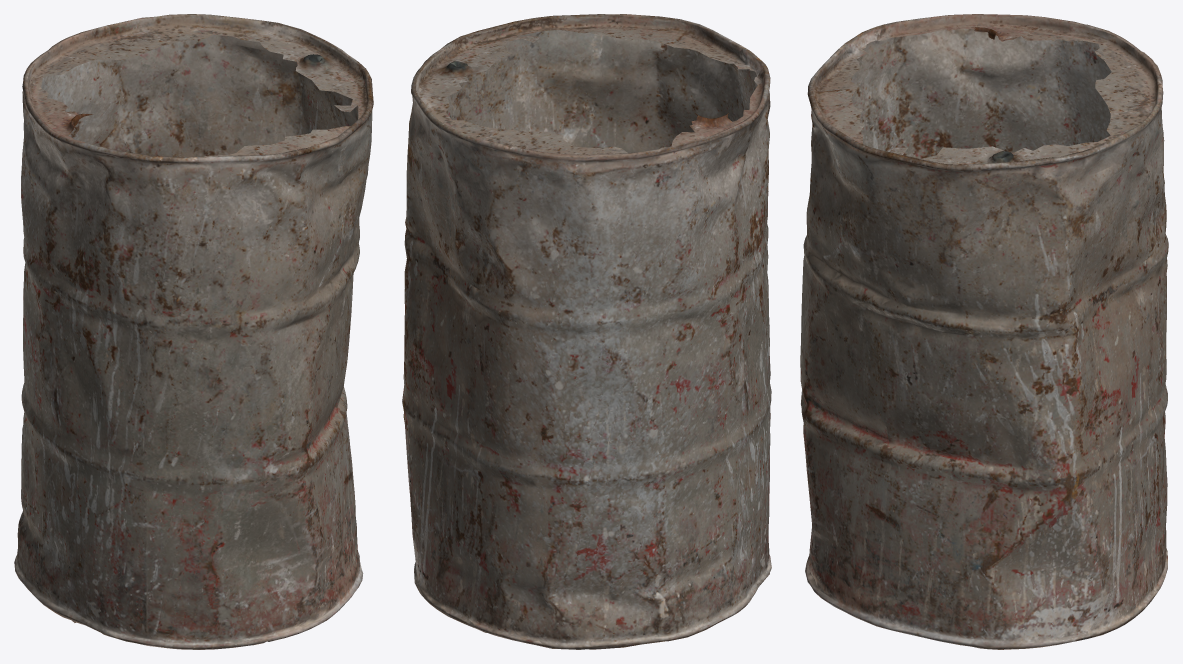
The model's file is bak.glb.
3 renders of one model, left to right at view 1: azimuth 30°, elevation 25°; view 2: azimuth 150°, elevation 25°; view 3: azimuth 270°, elevation 25°, orthographic.
Parts seen in each view (by area): view 1: Aset_other_various_M_ui1maewga_LOD0__0; view 2: Aset_other_various_M_ui1maewga_LOD0__0; view 3: Aset_other_various_M_ui1maewga_LOD0__0.
Boxes of the visible parts, x1,y1,x2,y2 form: Aset_other_various_M_ui1maewga_LOD0__0: (14,14,373,649); Aset_other_various_M_ui1maewga_LOD0__0: (402,14,771,649); Aset_other_various_M_ui1maewga_LOD0__0: (800,14,1168,649).
Size of the model in its own units: 11.74 by 17.95 by 12.1.
1 material, 1 textured.
